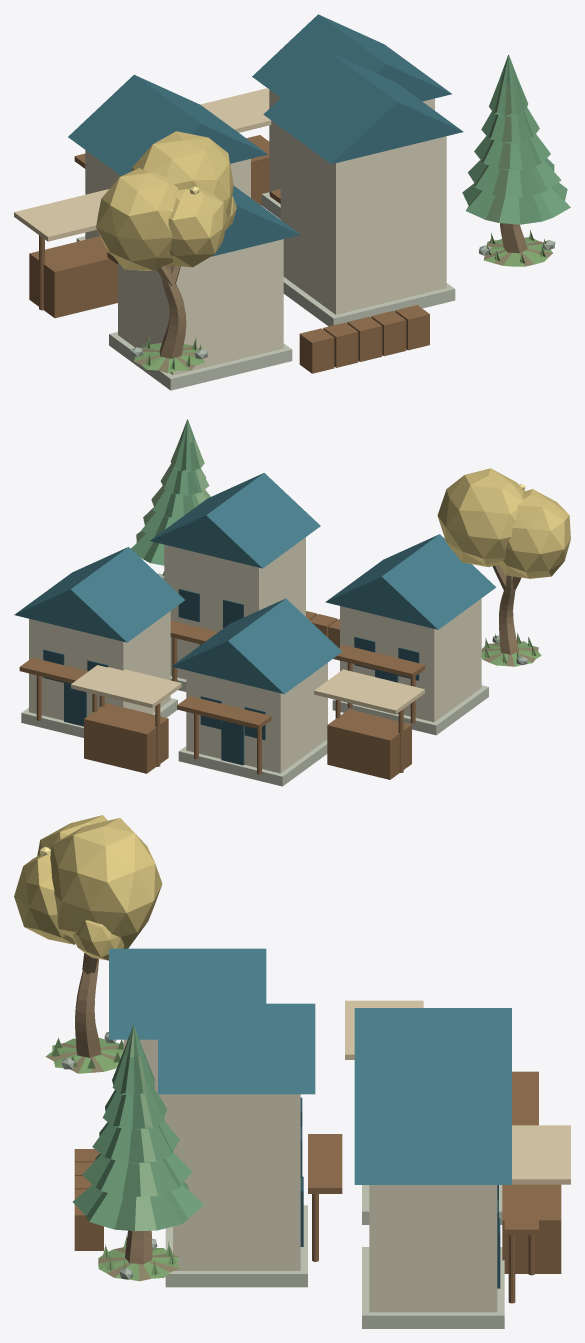
Rendered from city_quarter.glb.
3 renders of one model, top to bottom at view 1: azimuth 30°, elevation 25°; view 2: azimuth 150°, elevation 25°; view 3: azimuth 270°, elevation 25°, orthographic. The views are drawn at different scales.
Parts seen in each view (by area): view 1: VR forest flowering_gold; view 2: VR forest flowering_gold; view 3: VR forest flowering_gold.
Boxes of the visible parts, x1,y1,x2,y2 form: VR forest flowering_gold: (14, 14, 570, 390); VR forest flowering_gold: (14, 419, 570, 786); VR forest flowering_gold: (14, 815, 570, 1328).
Bounding box in the file's own units: 13.21 × 6.56 × 11.33.
